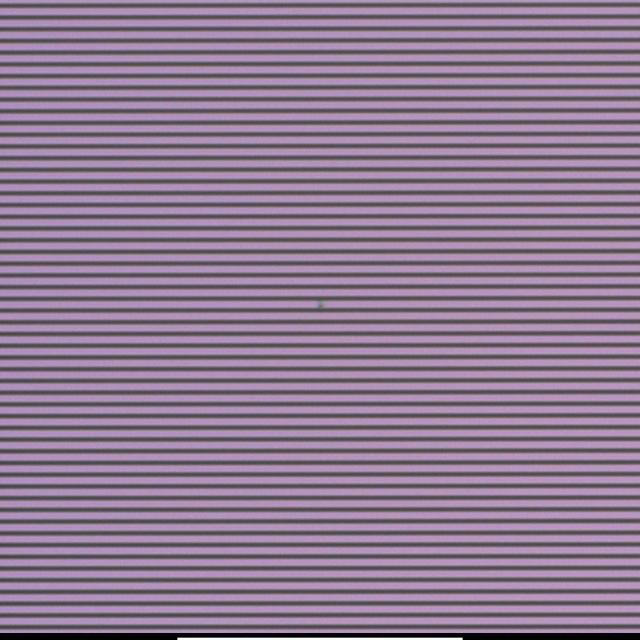03_intrusion: (315, 300, 327, 315)
